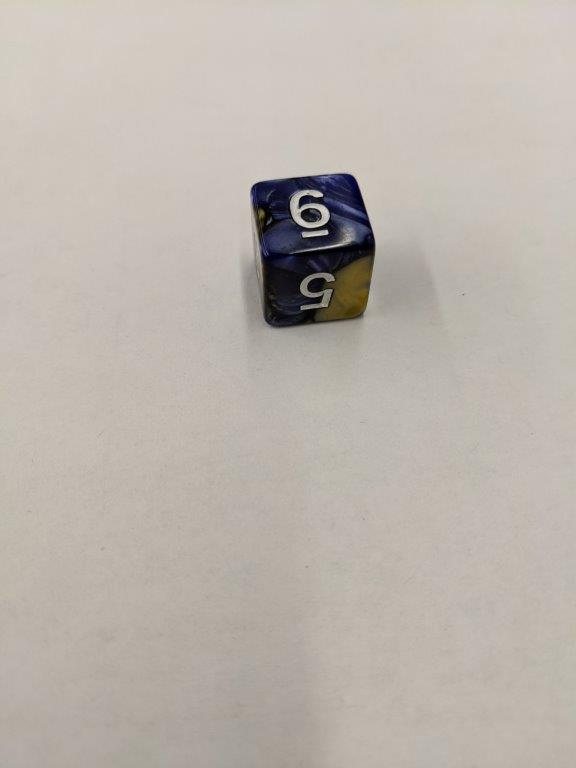d6-6: (252, 172, 375, 338)
